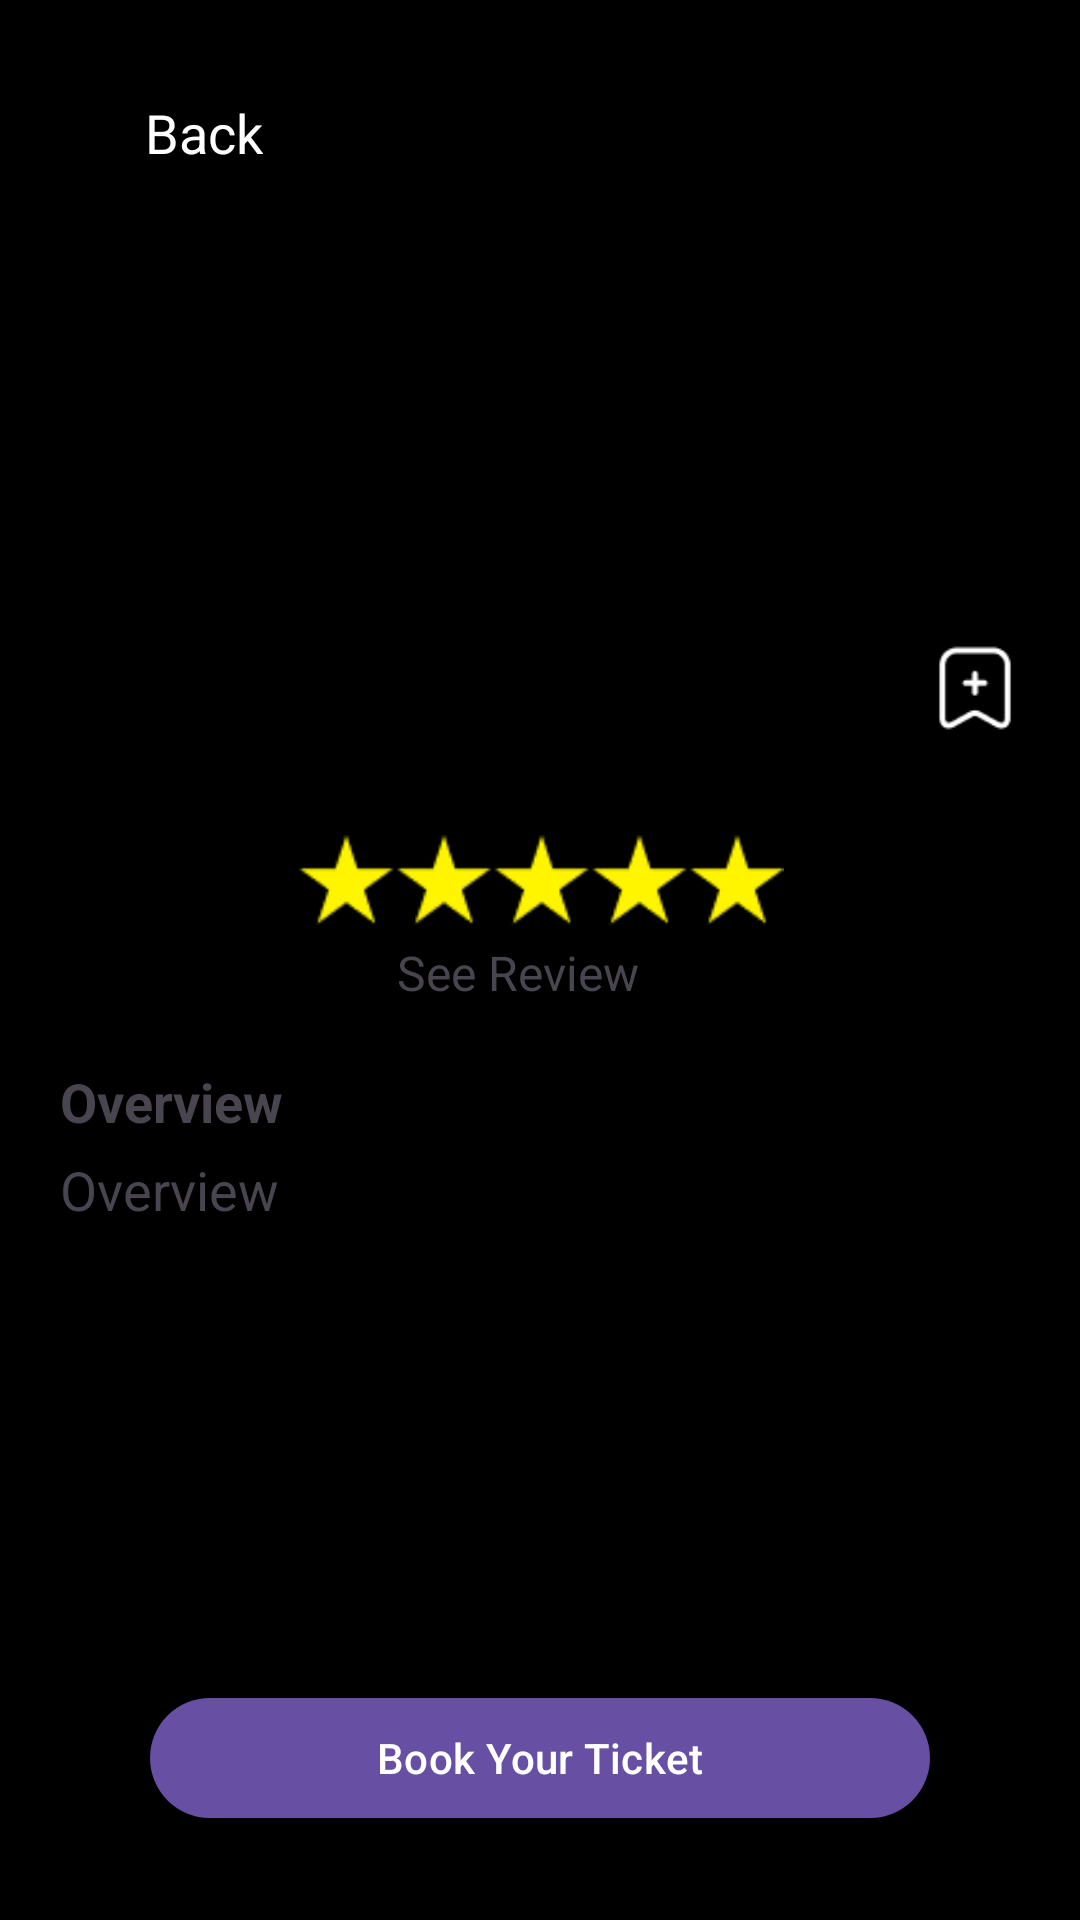

Named icons in this screenshot (1080x1920) and their bounding boxes, (x1, y1, x2, y2):
bookmark: (939, 646, 1011, 730)
